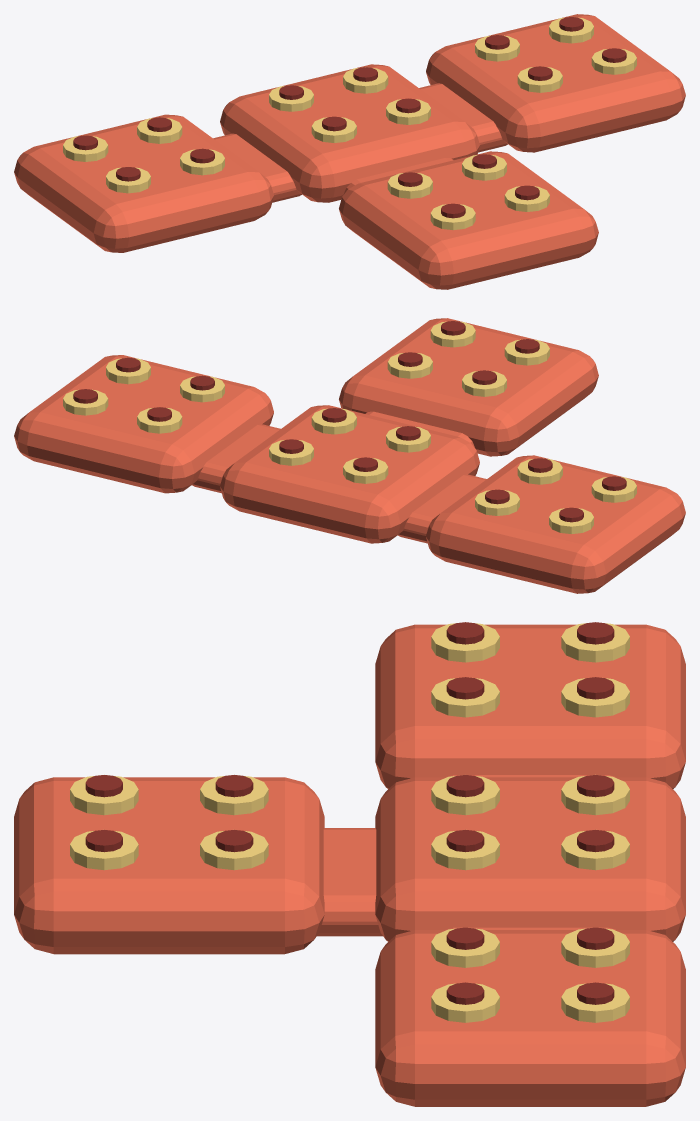
Rendered from PR3D_Container_T.glb.
3 views of the same model, one above another, from view 1: azimuth 30°, elevation 25°; view 2: azimuth 150°, elevation 25°; view 3: azimuth 270°, elevation 25° (orthographic). The views are drawn at different scales.
Parts seen in each view (by area): view 1: Visual_T_Base_00, Visual_T_Base_01, Visual_T_Base_03, Visual_T_Base_02, Visual_T_Bridge_02, Visual_T_Bridge_01, Visual_T_Cheese_00_01, Visual_T_Cheese_02_03, Visual_T_Cheese_03_02, Visual_T_Cheese_01_03, Visual_T_Cheese_00_00, Visual_T_Cheese_03_00 (+11 smaller); view 2: Visual_T_Base_01, Visual_T_Base_03, Visual_T_Base_02, Visual_T_Base_00, Visual_T_Bridge_01, Visual_T_Bridge_02, Visual_T_Cheese_00_03, Visual_T_Cheese_01_00, Visual_T_Cheese_02_01, Visual_T_Cheese_03_03, Visual_T_Cheese_00_00, Visual_T_Cheese_02_02 (+11 smaller); view 3: Visual_T_Base_00, Visual_T_Base_03, Visual_T_Base_01, Visual_T_Base_02, Visual_T_Bridge_00, Visual_T_Cheese_00_00, Visual_T_Cheese_02_01, Visual_T_Cheese_00_03, Visual_T_Cheese_02_02, Visual_T_Cheese_00_01, Visual_T_Cheese_01_02, Visual_T_Cheese_02_00 (+25 smaller).
Boxes of the visible parts, left/top/right/bottom form: Visual_T_Base_00: left=339, top=151, right=598, bottom=289; Visual_T_Base_01: left=14, top=114, right=273, bottom=252; Visual_T_Base_03: left=426, top=14, right=685, bottom=152; Visual_T_Base_02: left=220, top=64, right=479, bottom=202; Visual_T_Bridge_02: left=419, top=83, right=507, bottom=152; Visual_T_Bridge_01: left=213, top=133, right=301, bottom=202; Visual_T_Cheese_00_01: left=387, top=173, right=432, bottom=198; Visual_T_Cheese_02_03: left=343, top=67, right=388, bottom=93; Visual_T_Cheese_03_02: left=591, top=49, right=636, bottom=74; Visual_T_Cheese_01_03: left=137, top=118, right=182, bottom=143; Visual_T_Cheese_00_00: left=430, top=204, right=475, bottom=230; Visual_T_Cheese_03_00: left=517, top=67, right=562, bottom=92; Visual_T_Base_01: left=426, top=455, right=685, bottom=593; Visual_T_Base_03: left=14, top=355, right=273, bottom=493; Visual_T_Base_02: left=220, top=405, right=479, bottom=543; Visual_T_Base_00: left=339, top=318, right=598, bottom=456; Visual_T_Bridge_01: left=398, top=474, right=486, bottom=543; Visual_T_Bridge_02: left=192, top=424, right=280, bottom=493; Visual_T_Cheese_00_03: left=387, top=353, right=432, bottom=378; Visual_T_Cheese_01_00: left=591, top=477, right=636, bottom=502; Visual_T_Cheese_02_01: left=343, top=458, right=388, bottom=483; Visual_T_Cheese_03_03: left=63, top=389, right=108, bottom=415; Visual_T_Cheese_00_00: left=504, top=339, right=549, bottom=365; Visual_T_Cheese_02_02: left=311, top=408, right=356, bottom=434; Visual_T_Base_00: left=14, top=777, right=324, bottom=954; Visual_T_Base_03: left=375, top=930, right=685, bottom=1106; Visual_T_Base_01: left=375, top=624, right=685, bottom=788; Visual_T_Base_02: left=375, top=777, right=685, bottom=941; Visual_T_Bridge_00: left=317, top=828, right=382, bottom=936; Visual_T_Cheese_00_00: left=70, top=774, right=138, bottom=815; Visual_T_Cheese_02_01: left=561, top=774, right=629, bottom=815; Visual_T_Cheese_00_03: left=200, top=831, right=268, bottom=870; Visual_T_Cheese_02_02: left=431, top=831, right=499, bottom=870; Visual_T_Cheese_00_01: left=200, top=776, right=268, bottom=815; Visual_T_Cheese_01_02: left=431, top=678, right=499, bottom=717; Visual_T_Cheese_02_00: left=431, top=776, right=499, bottom=815.
Bounding box in the file's own units: 2.86 × 0.2795 × 1.86.
